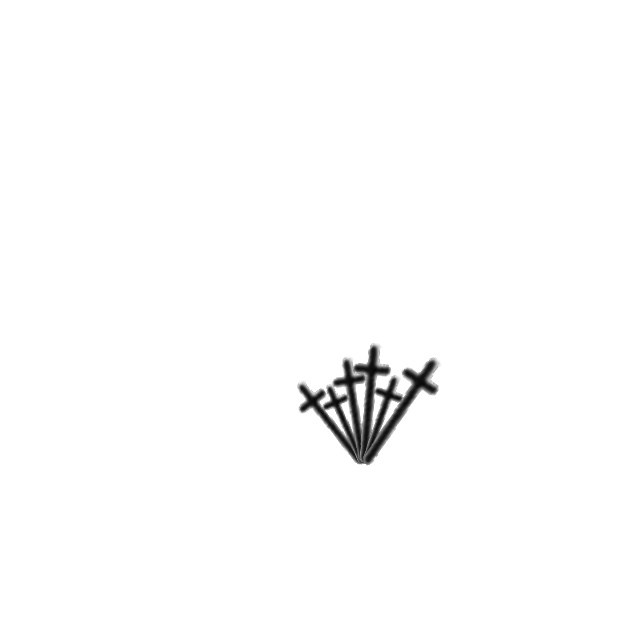double: (332, 337, 471, 489), (277, 363, 388, 484), (327, 338, 414, 471), (337, 366, 424, 476), (317, 353, 395, 470), (306, 374, 387, 476)
